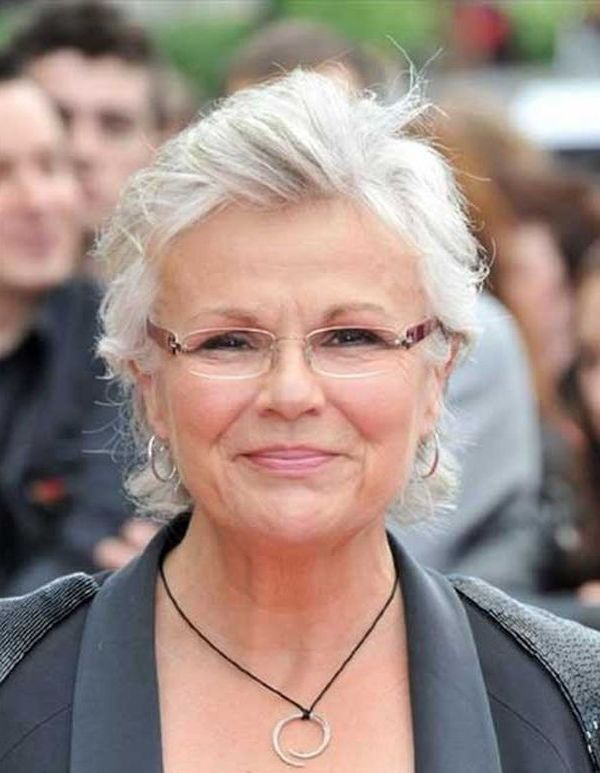llen: (305, 325, 402, 379)
rlen: (179, 326, 277, 379)
